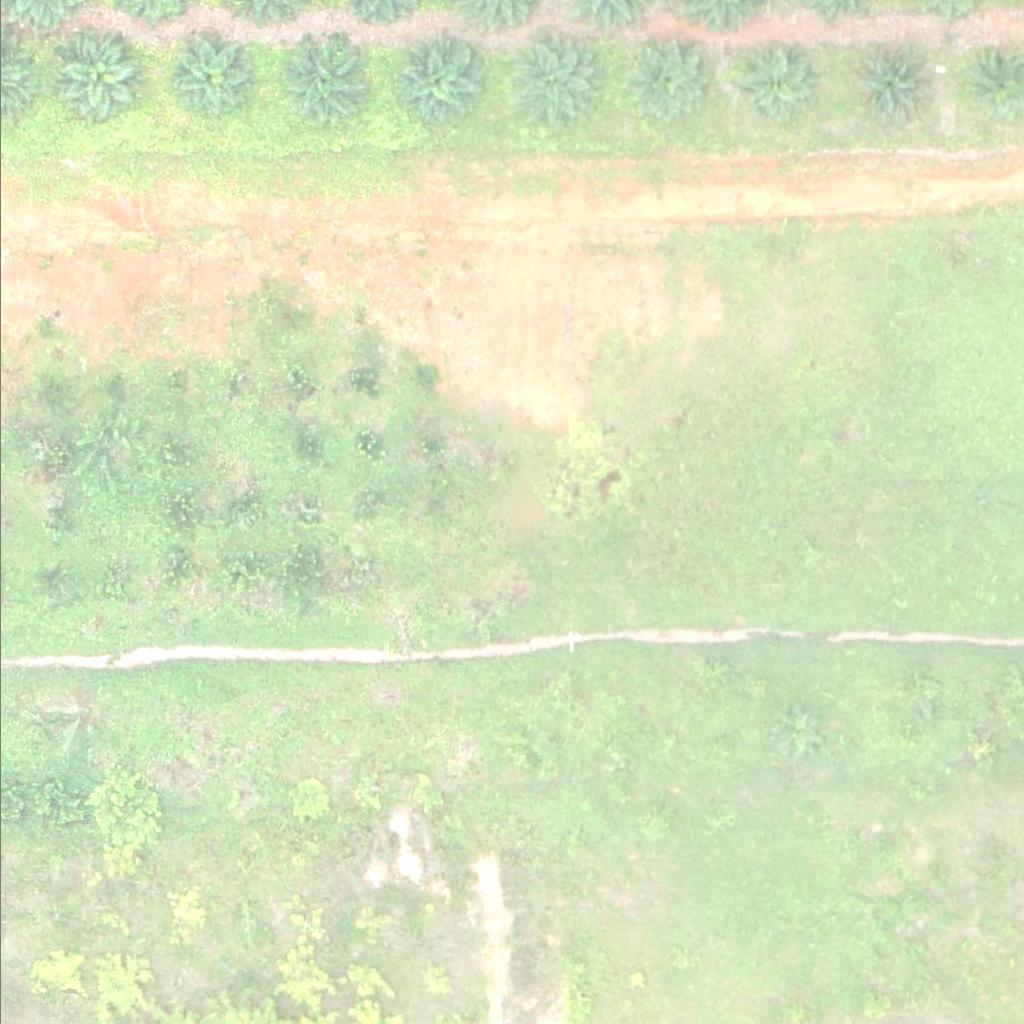Kelapa_Sawit: (385, 32, 486, 132), (724, 38, 812, 126), (277, 40, 365, 128), (163, 36, 251, 124), (53, 37, 141, 125), (843, 42, 931, 129), (623, 38, 711, 125), (508, 38, 596, 125)
